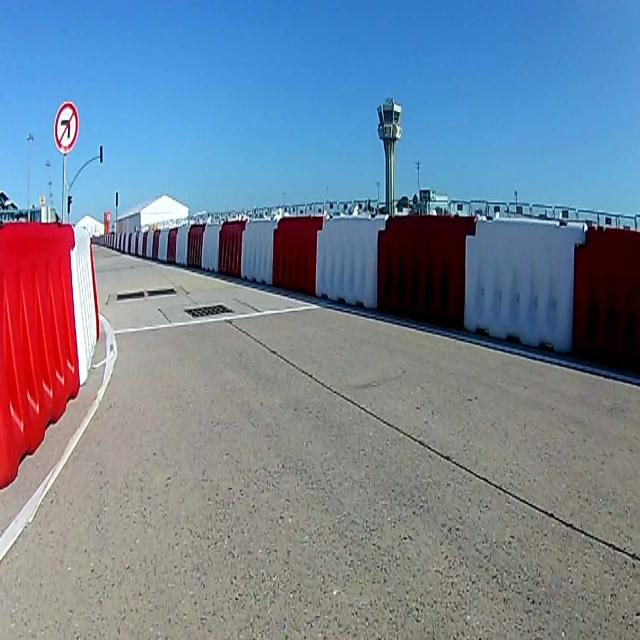soladonulmez: (54, 102, 78, 153)
